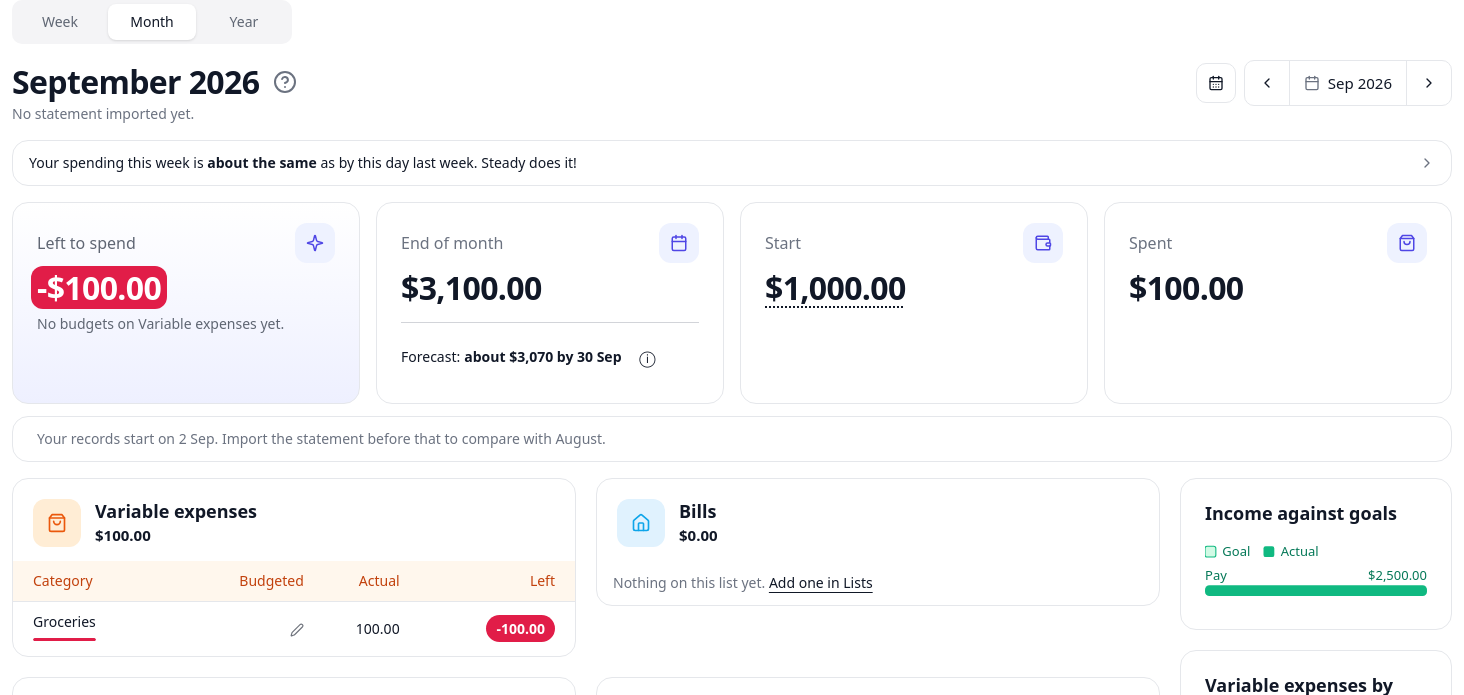
Test case: Typing the starting balance on the Month › clears it, leaving no End of month, and offers Clear only when one is typed (D17)
Click the button named "Starting balance for September, ": [835, 288] box [765,267,906,310]
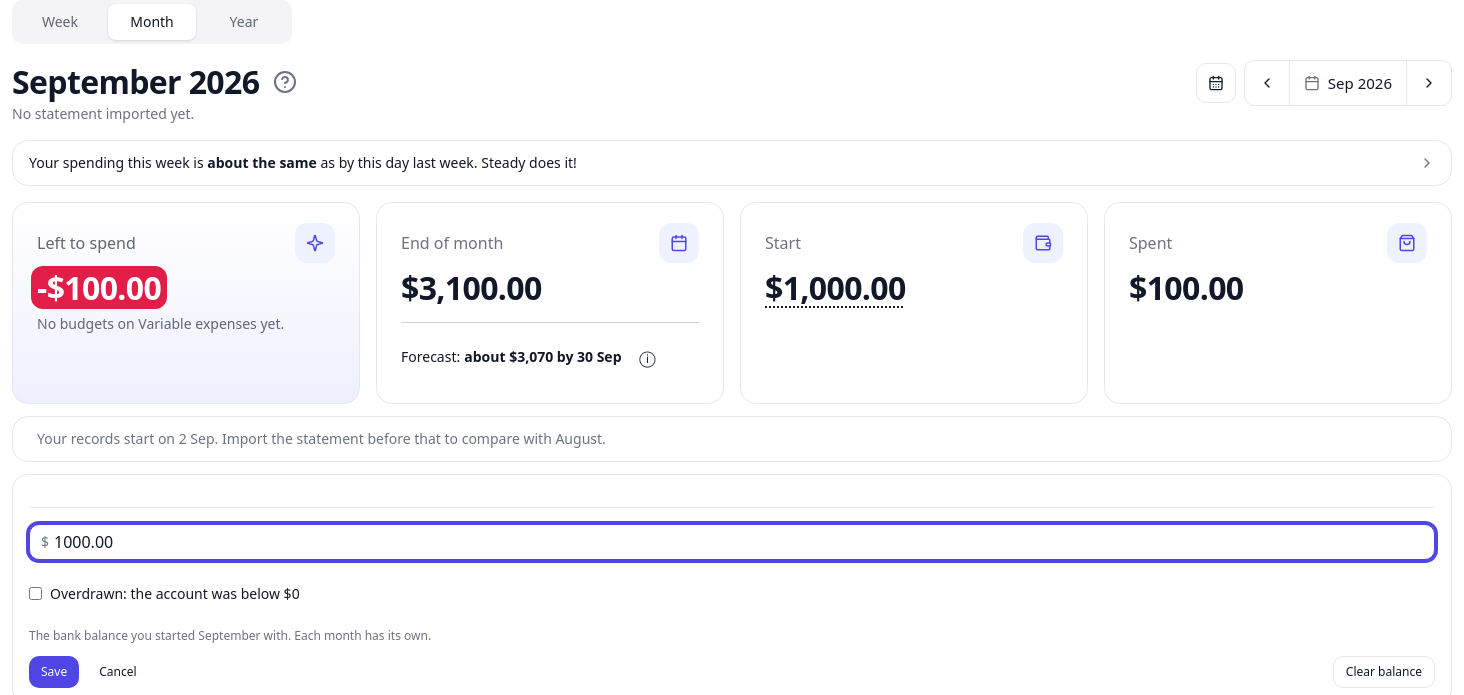
Now the field named "Starting bank balance for September" holds "1000.00", box [29,524,1435,560]
Click the button "Clear balance": [1384, 672] box [1333,656,1435,688]
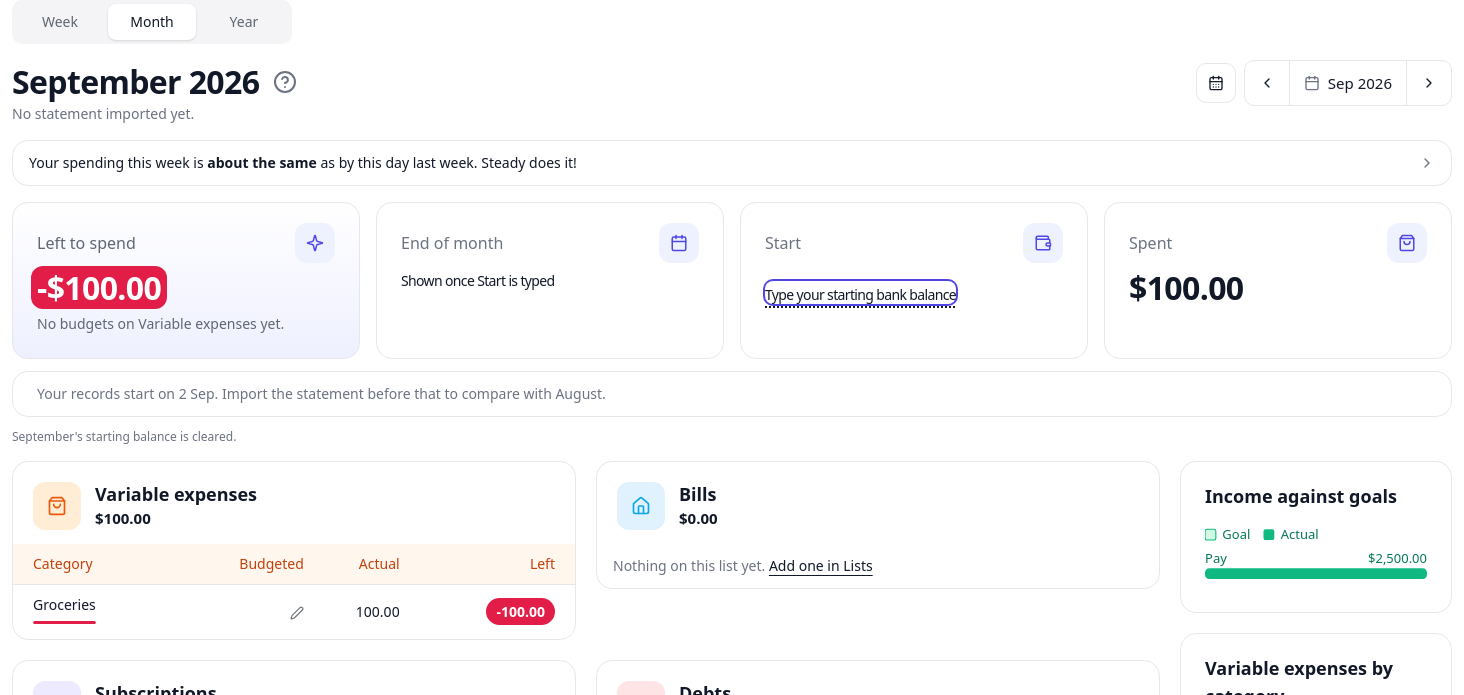
Now the message reads "September's starting balance is cleared.", box [12,428,236,445]
Now the text "Type your starting bank balance" is shown
Now the text "Shown once Start is typed" is shown, box [401,271,554,290]
Click the button with aria-label "Starting balance for September, none typed": [860, 293] box [765,281,956,304]
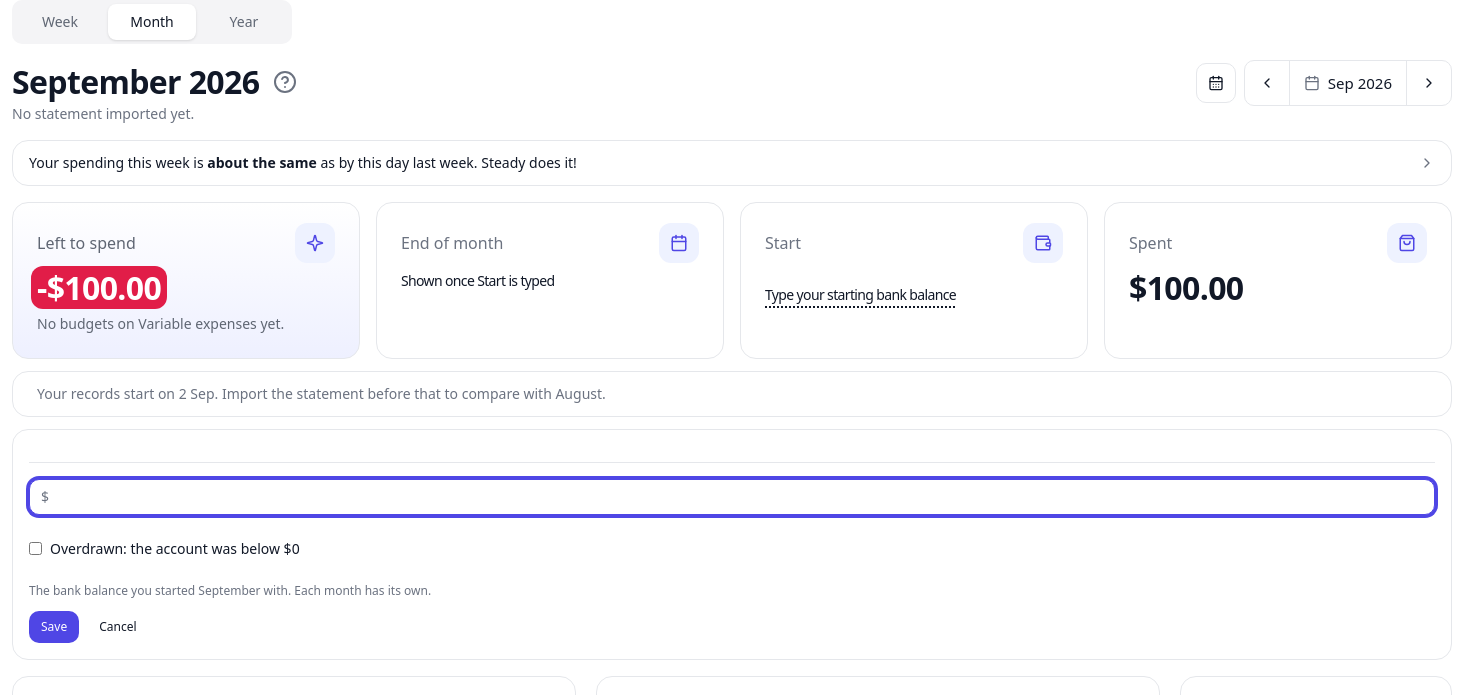
Expected: the button "Clear balance" is not shown
Press Escape in the field named "Starting bank balance for September", box [29,479,1435,515]
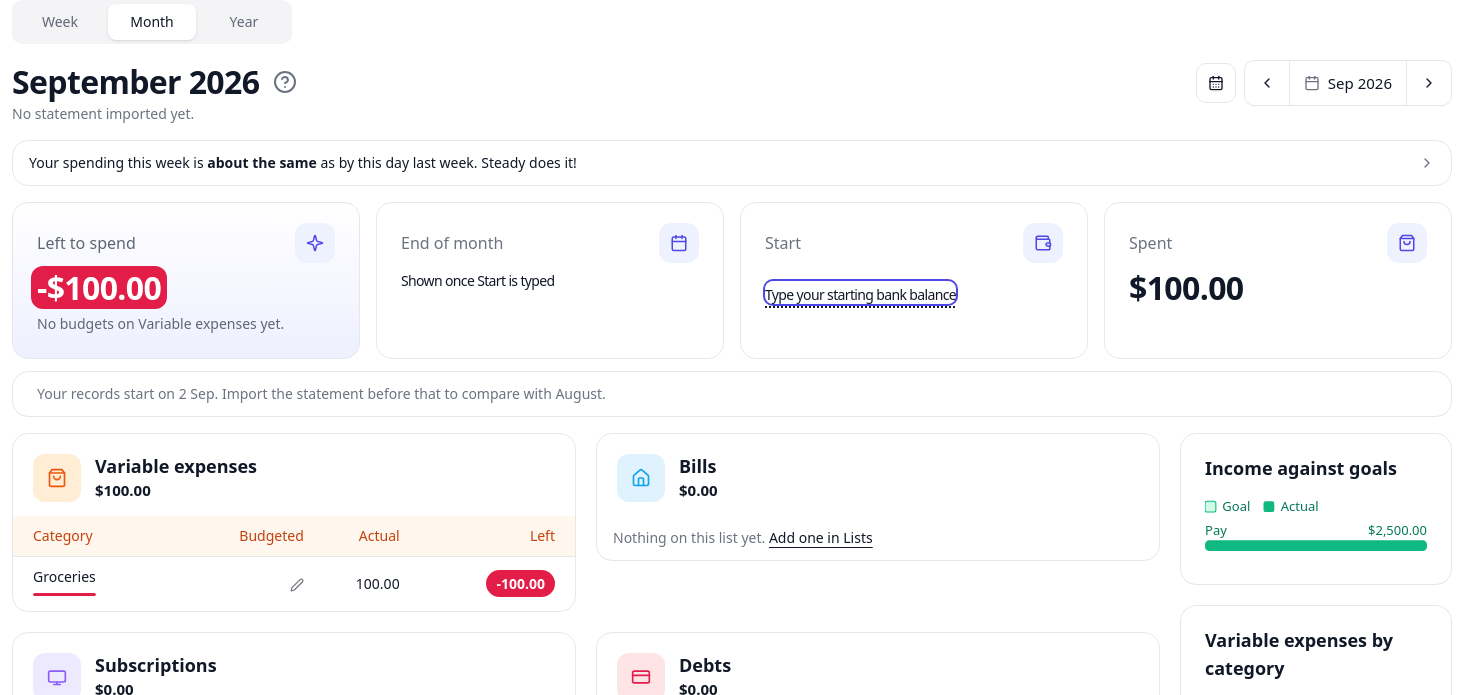
Now the field is gone
